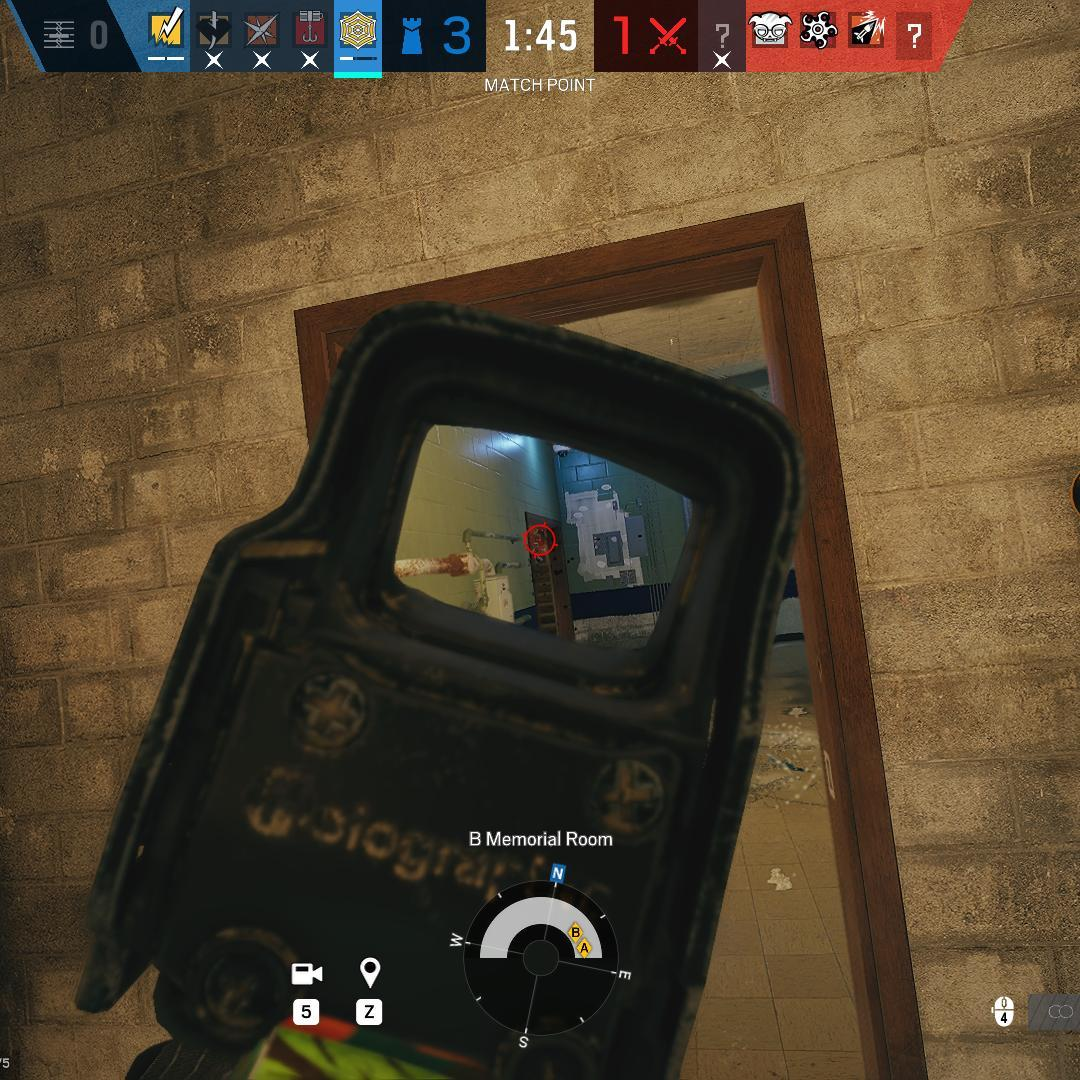Character: (532, 527, 548, 564)
